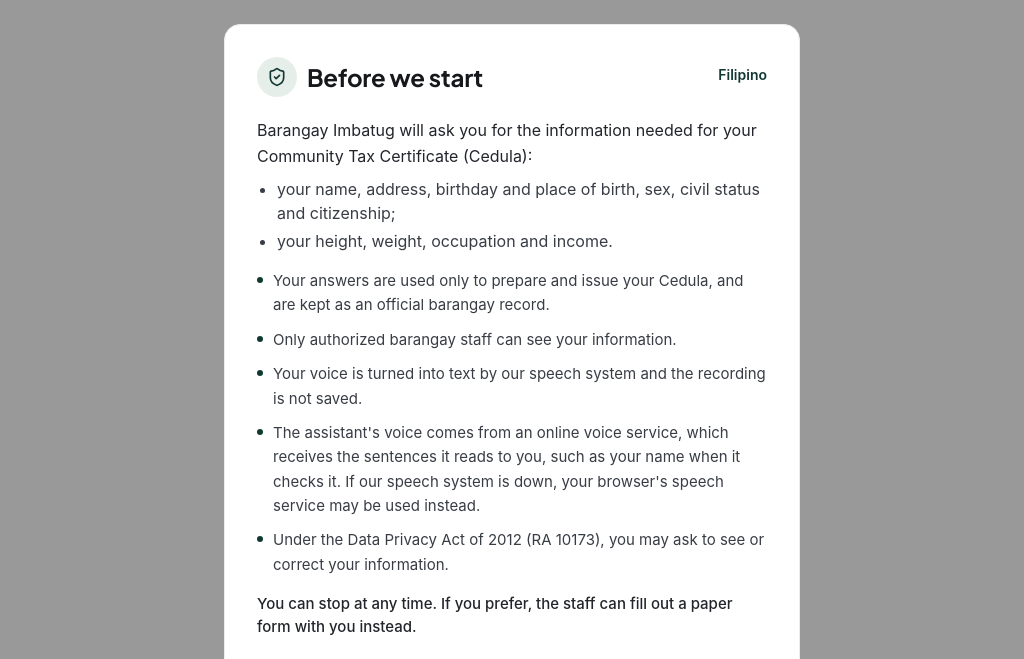
Test: the consent notice (plan 003) › evaluation mode off: the original "not saved" lines are shown, in both languages
What coordinates should you click on to do the following:
click the button "Filipino"
I would click on:
 (743, 75)
Its box is [718, 65, 767, 85].
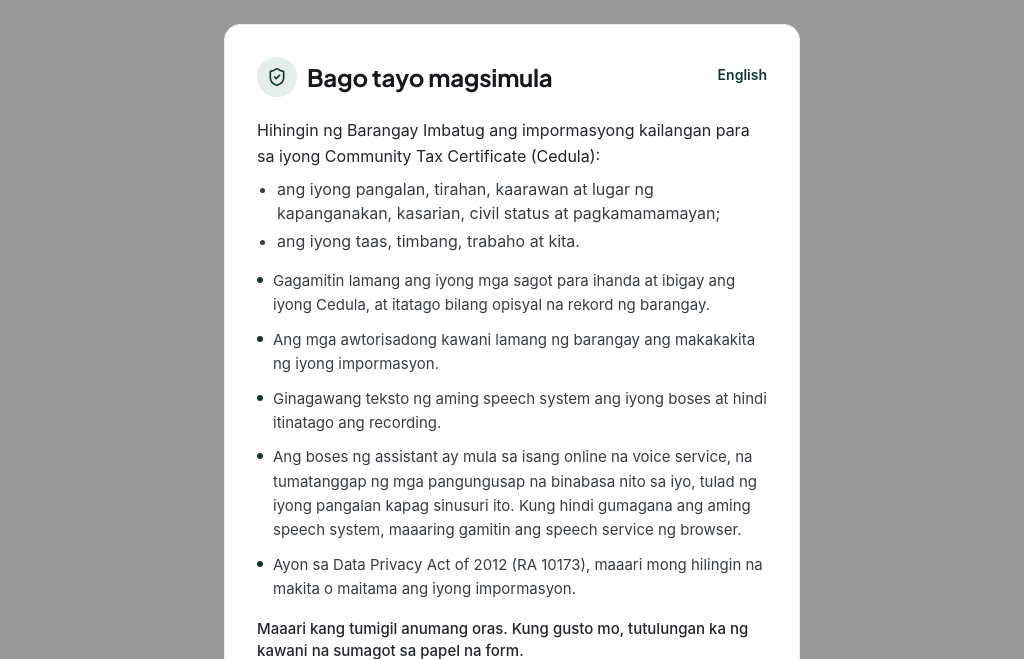
Check: the text "hindi itinatago ang recording." is shown, box [273, 388, 767, 432]
